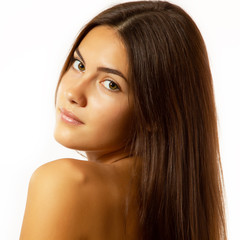teen: (33, 8, 196, 152)
